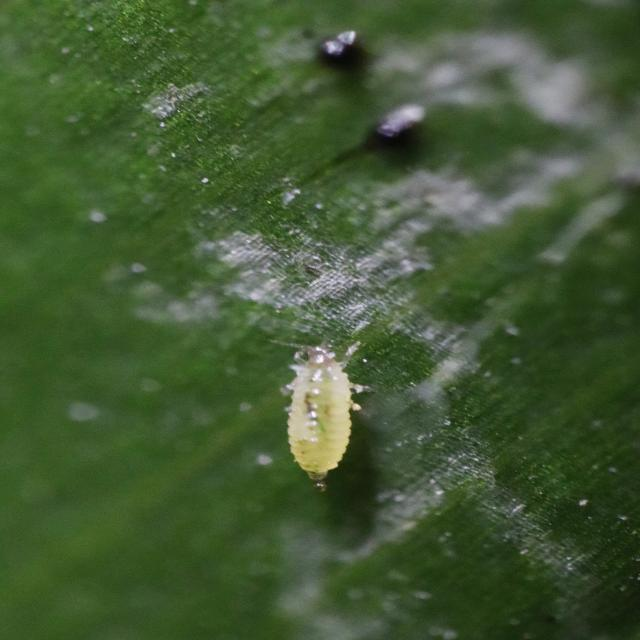Thrip-Larva-: (236, 321, 372, 489)
